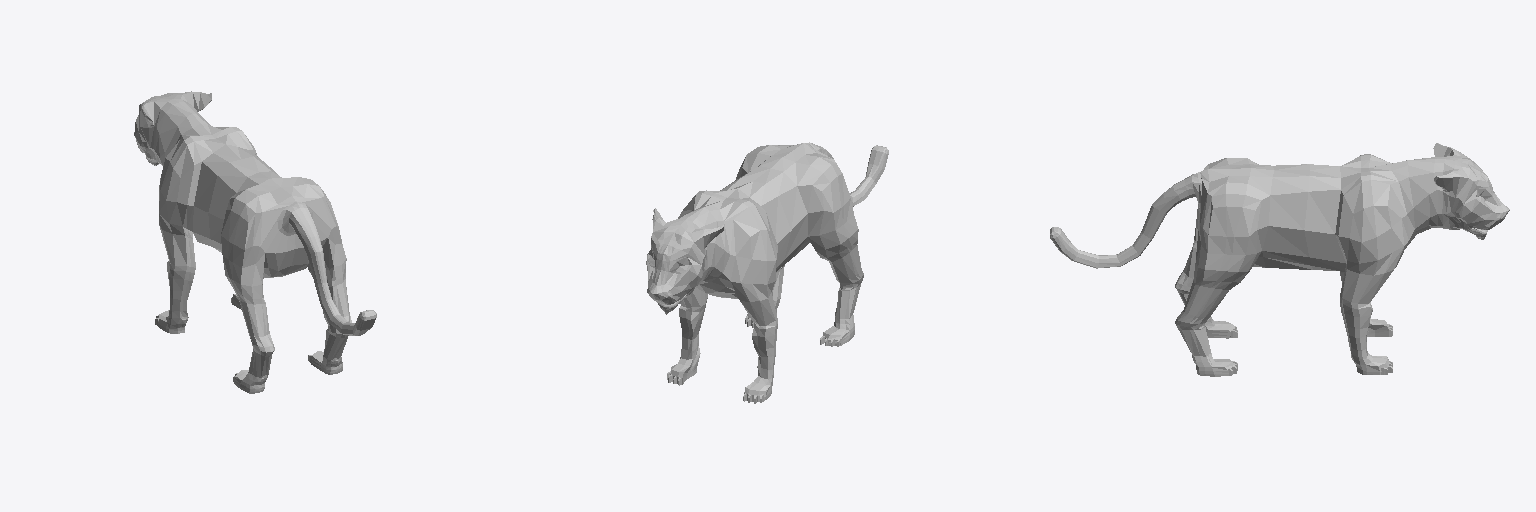
File: Basetiger.obj
3 renders of one model, left to right at view 1: azimuth 30°, elevation 25°; view 2: azimuth 150°, elevation 25°; view 3: azimuth 270°, elevation 25°, orthographic.
Visible parts, largest first — view 1: Tiger; view 2: Tiger; view 3: Tiger.
Boxes of the visible parts, x1,y1,x2,y2 form: Tiger: [134, 91, 376, 393]; Tiger: [646, 142, 888, 403]; Tiger: [1050, 143, 1509, 376].
Size of the model in its own units: 0.5774 by 0.9988 by 2.15.